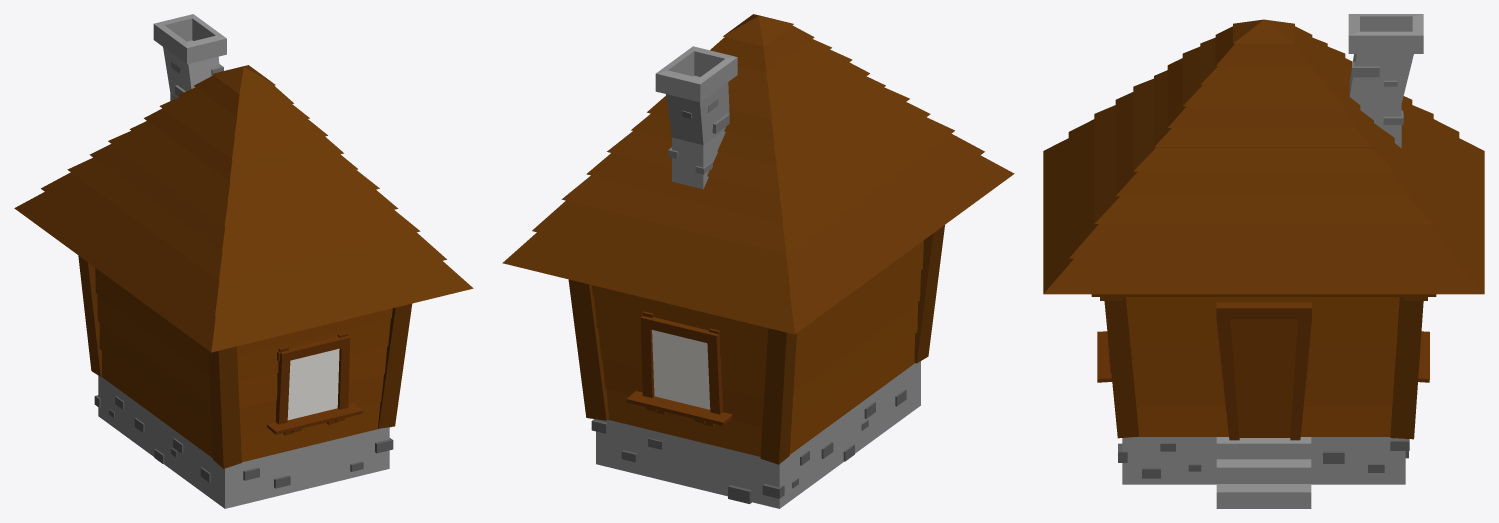
The model's file is LiLHouse.glb.
3 views of the same model, side by side, from view 1: azimuth 30°, elevation 25°; view 2: azimuth 150°, elevation 25°; view 3: azimuth 270°, elevation 25° (orthographic). The views are drawn at different scales.
Parts seen in each view (by area): view 1: Teto, Plane, Plane.002, Keret, Cube, Cube.005, Cube.007, Bricks.001; view 2: Teto, Plane, Plane.002, Keret, Cube, Cube.003, Cube.004, Bricks.001, Cube.006; view 3: Teto, Plane, Plane.002, Keret, Cube.002, Plane.001, Cube, Cube.001, Bricks.001, Cube.005, Cube.006, Cube.003.
Part boxes in pixels (box(x1,y1,x2,y2)): Teto: box(14, 65, 473, 352); Plane: box(95, 268, 392, 462); Plane.002: box(98, 376, 389, 508); Keret: box(78, 255, 412, 468); Cube: box(153, 14, 226, 100); Cube.005: box(267, 332, 362, 435); Cube.007: box(287, 348, 339, 420); Bricks.001: box(94, 395, 393, 488); Teto: box(502, 14, 1014, 334); Plane: box(592, 240, 923, 456); Plane.002: box(596, 361, 920, 508); Keret: box(568, 225, 944, 464); Cube: box(655, 46, 737, 189); Cube.003: box(626, 311, 732, 426); Cube.004: box(652, 330, 710, 409); Bricks.001: box(591, 389, 906, 503); Cube.006: box(668, 99, 729, 174); Teto: box(1043, 19, 1484, 294); Plane: box(1126, 297, 1399, 436); Plane.002: box(1122, 437, 1405, 484); Keret: box(1091, 294, 1436, 439); Cube.002: box(1230, 319, 1297, 437); Plane.001: box(1216, 437, 1311, 508); Cube: box(1348, 14, 1423, 147); Cube.001: box(1216, 302, 1311, 440); Bricks.001: box(1118, 439, 1409, 478); Cube.005: box(1097, 331, 1112, 382); Cube.006: box(1352, 61, 1403, 124); Cube.003: box(1418, 331, 1429, 382).
Bounding box in the file's own units: 7.17 × 9.8 × 9.33.
